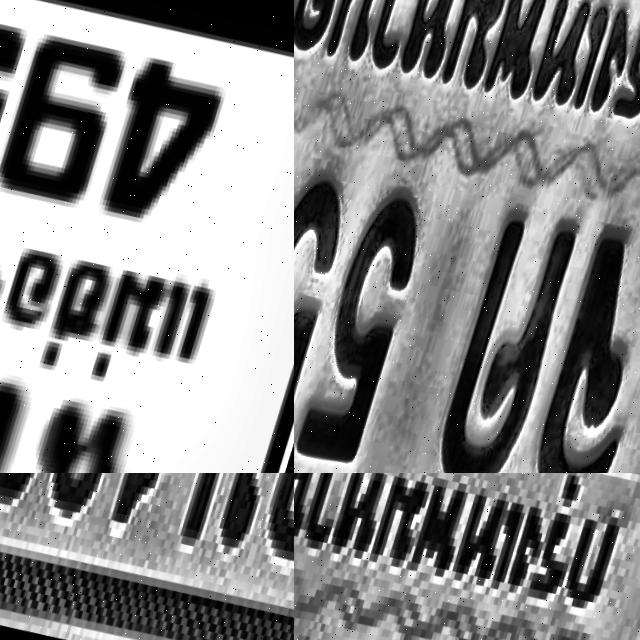license-plate: (294, 0, 640, 473), (0, 0, 294, 473), (294, 473, 640, 640), (0, 473, 294, 640)
